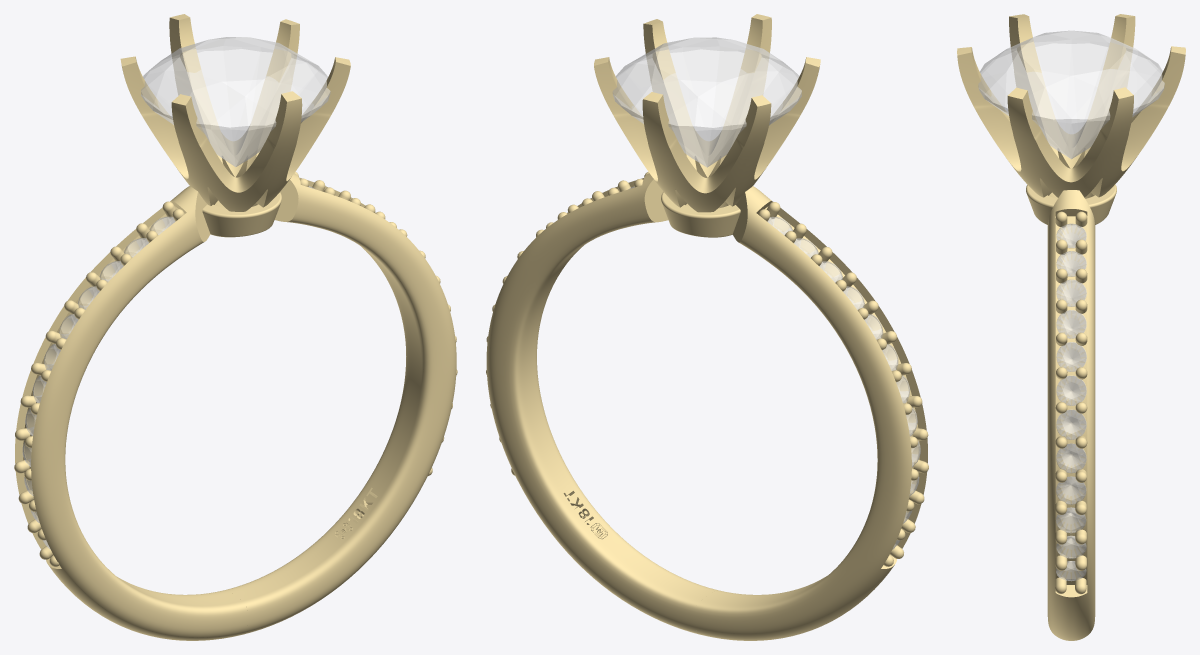
3 renders of one model, left to right at view 1: azimuth 30°, elevation 25°; view 2: azimuth 150°, elevation 25°; view 3: azimuth 270°, elevation 25°, orthographic.
Parts seen in each view (by area): view 1: NNObj_27, NNObj_26, NNObj_28, NNObj_24, NNObj_25; view 2: NNObj_27, NNObj_26, NNObj_28, NNObj_24, NNObj_25; view 3: NNObj_28, NNObj_27, NNObj_24, NNObj_25, NNObj_5, NNObj_6, NNObj_4, NNObj_7, NNObj_3, NNObj_8, NNObj_2, NNObj_9 (+4 smaller).
Boxes of the visible parts, x1,y1,x2,y2 form: NNObj_27: (226,173,456,634); NNObj_26: (15,186,247,640); NNObj_28: (120,14,350,211); NNObj_24: (141,37,330,166); NNObj_25: (202,192,281,237); NNObj_27: (486,173,716,634); NNObj_26: (695,186,927,640); NNObj_28: (594,14,820,212); NNObj_24: (612,37,801,167); NNObj_25: (661,192,740,237); NNObj_28: (957,14,1185,197); NNObj_27: (1047,190,1095,640); NNObj_24: (978,30,1164,159); NNObj_25: (1026,184,1116,224); NNObj_5: (1056,375,1086,405); NNObj_6: (1056,409,1086,439); NNObj_4: (1056,342,1086,371); NNObj_7: (1056,443,1086,473); NNObj_3: (1056,310,1086,338); NNObj_8: (1056,476,1086,504); NNObj_2: (1056,279,1086,306); NNObj_9: (1055,507,1086,533).
Size of the model in its own units: 0.0209 by 0.0267 by 0.00972.
